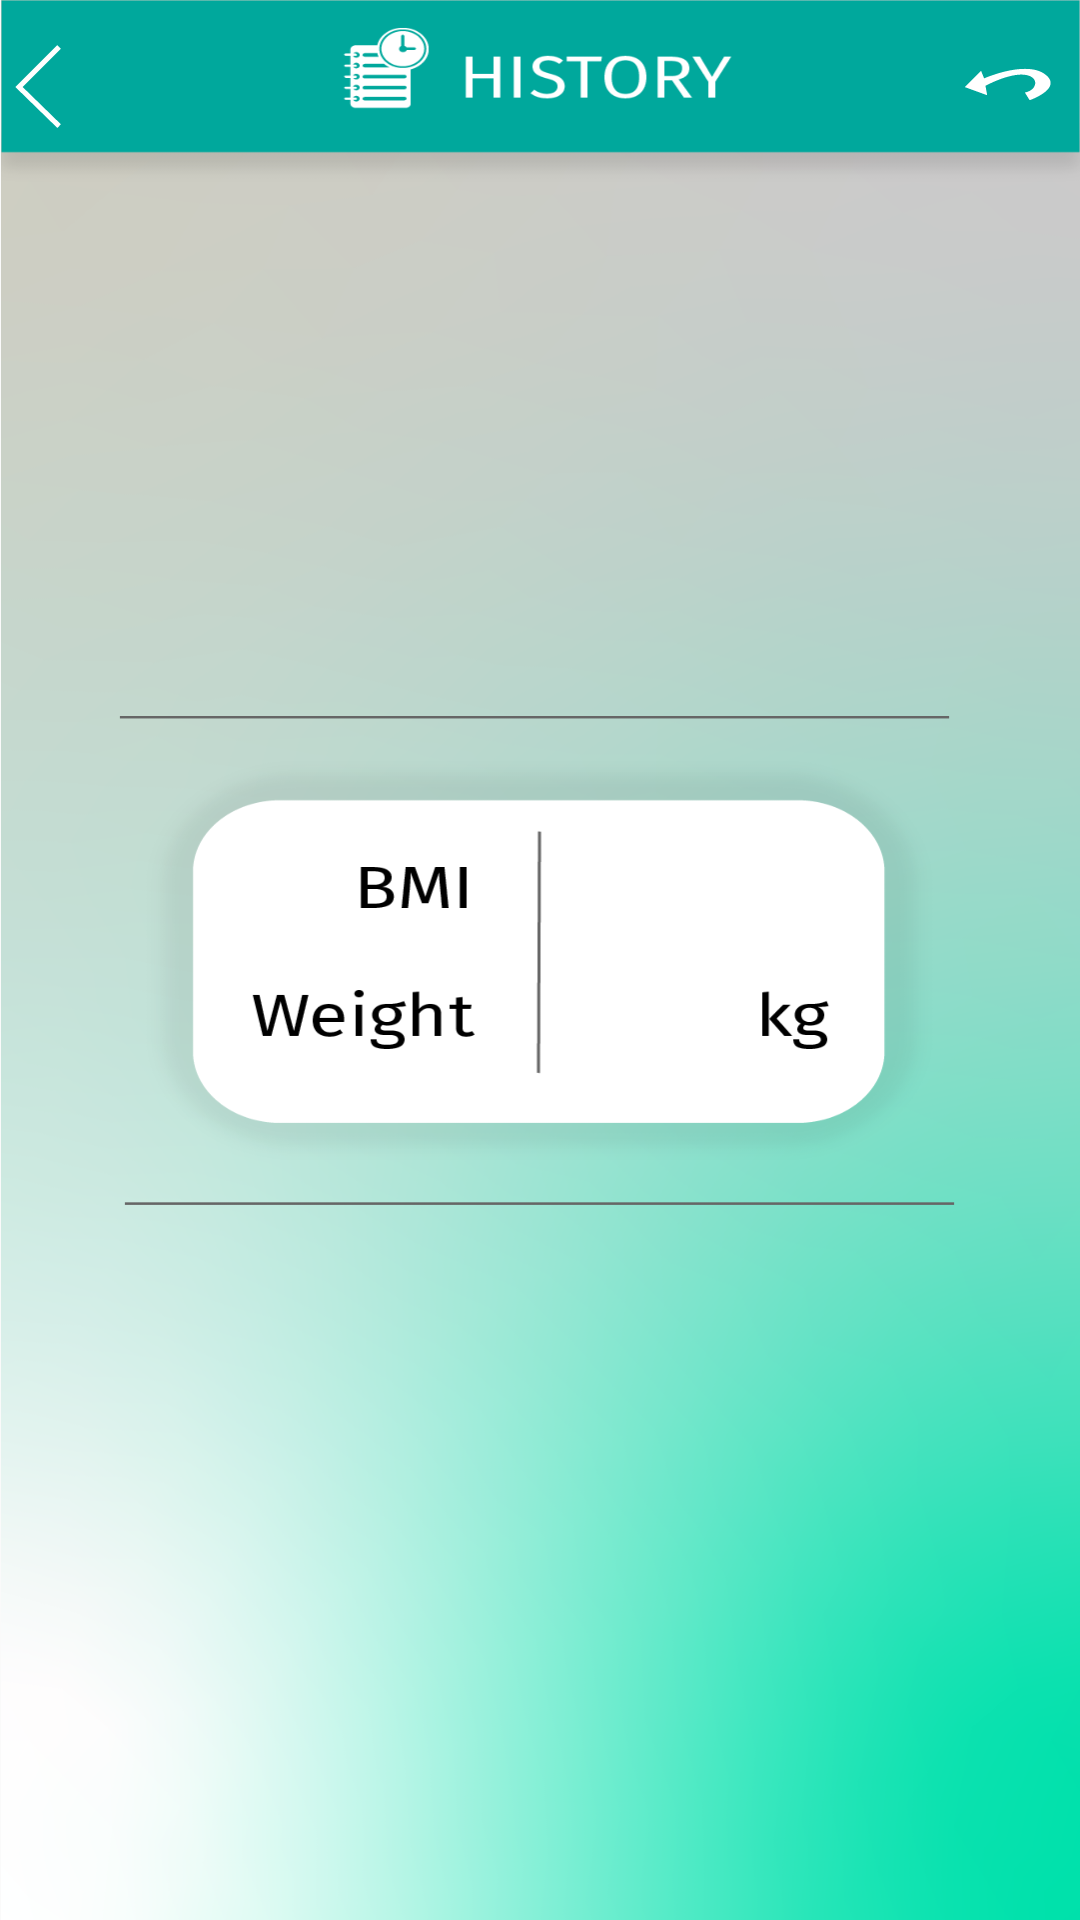

Icon bounding boxes for this 1080 × 1920 phone screenshot, format (x1,y1,x2,y2):
reset: (965,68,1051,100)
